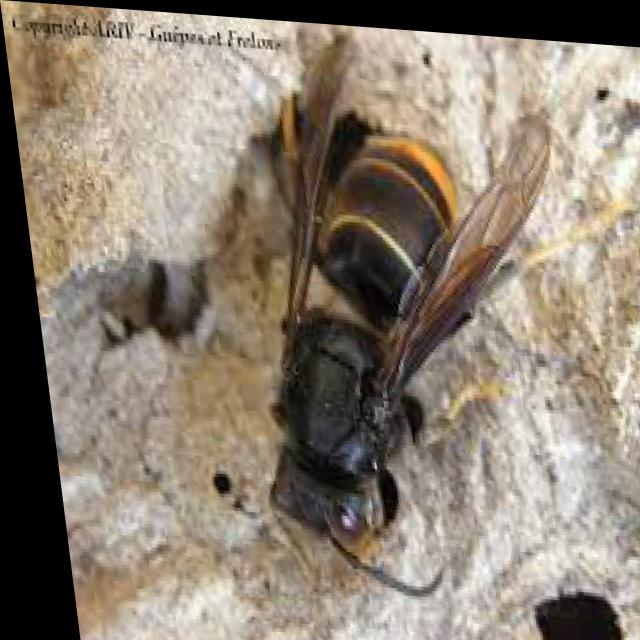Vespa Velutina: (180, 10, 639, 618)
